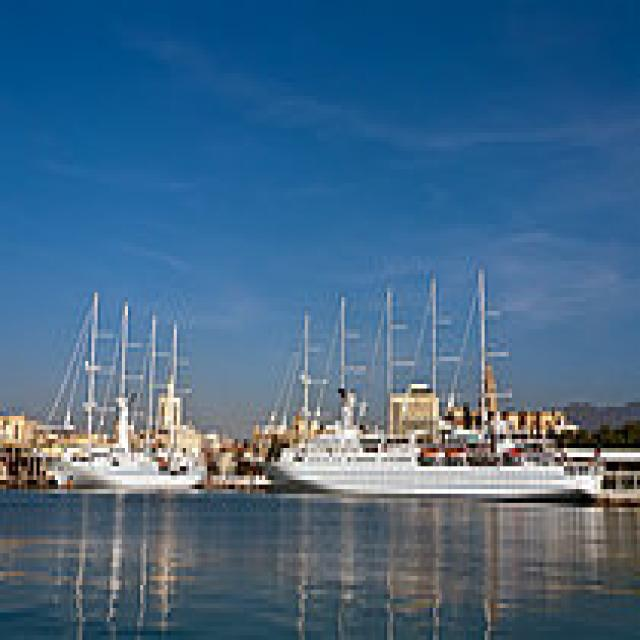Ship: (257, 257, 620, 508), (38, 275, 218, 504)
